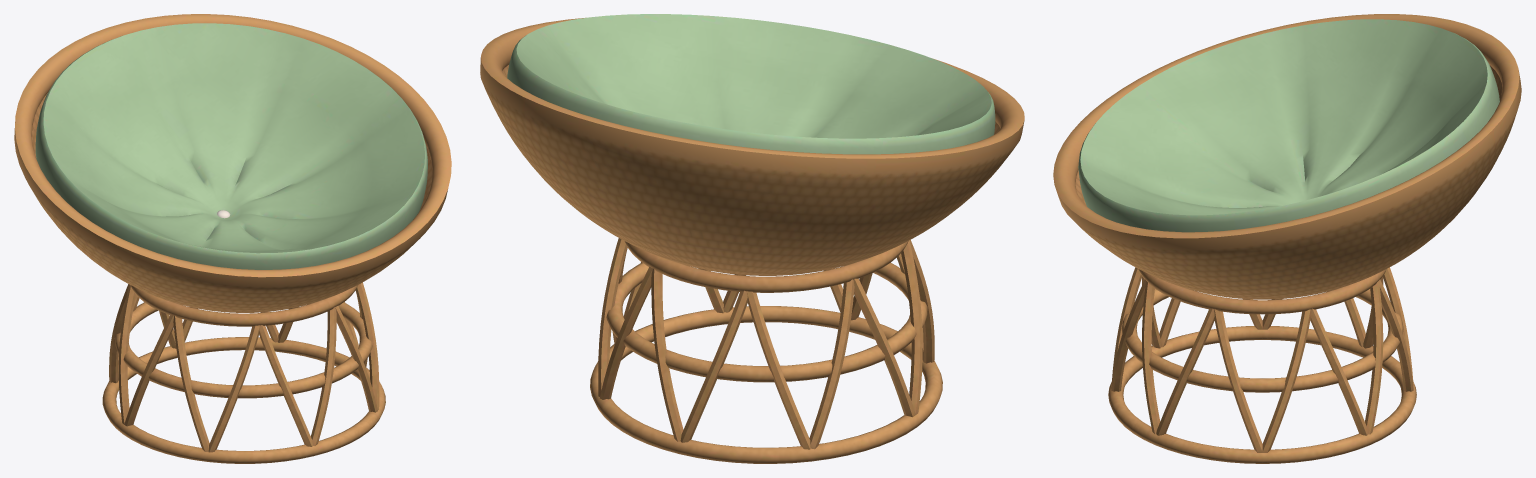
Rendered from papasan-chair.glb.
3 renders of one model, left to right at view 1: azimuth 30°, elevation 25°; view 2: azimuth 150°, elevation 25°; view 3: azimuth 270°, elevation 25°, orthographic. The views are drawn at different scales.
Visible parts, largest first — view 1: papasan-chair_body; view 2: papasan-chair_body; view 3: papasan-chair_body.
Part boxes in pixels (x1=…): papasan-chair_body: x1=14, y1=14, x2=451, y2=463; papasan-chair_body: x1=480, y1=14, x2=1024, y2=463; papasan-chair_body: x1=1053, y1=14, x2=1521, y2=463.
Bounding box in the file's own units: 1.08 × 0.8115 × 1.05.
Materials: 1 (1 with a texture image).
